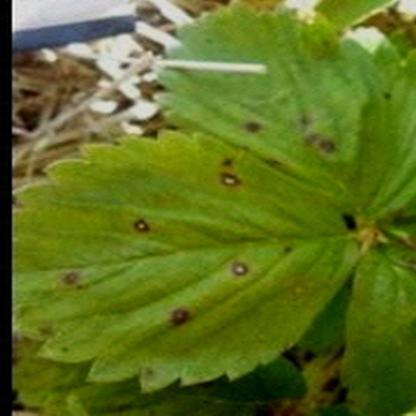Strawberry_Leaf_Spot: (12, 126, 361, 395), (154, 0, 416, 226)
